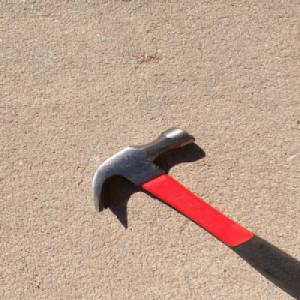Hammer: (89, 125, 300, 300)
